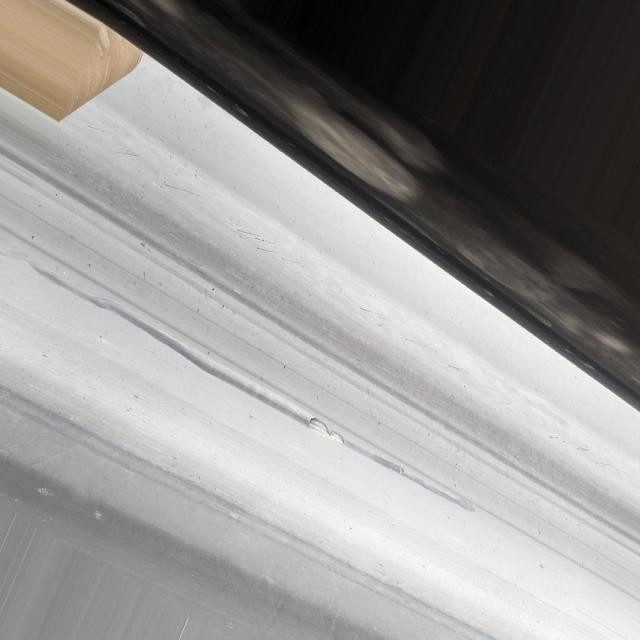Impact Damage: (302, 404, 348, 456)
